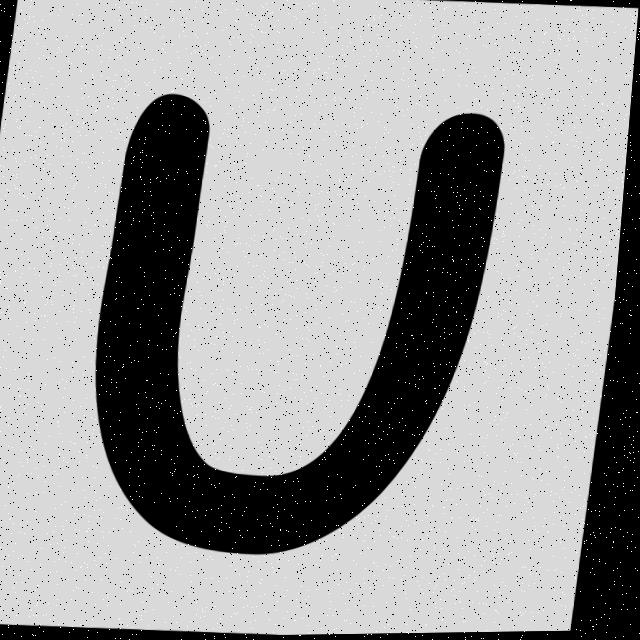U: (102, 96, 507, 554)
